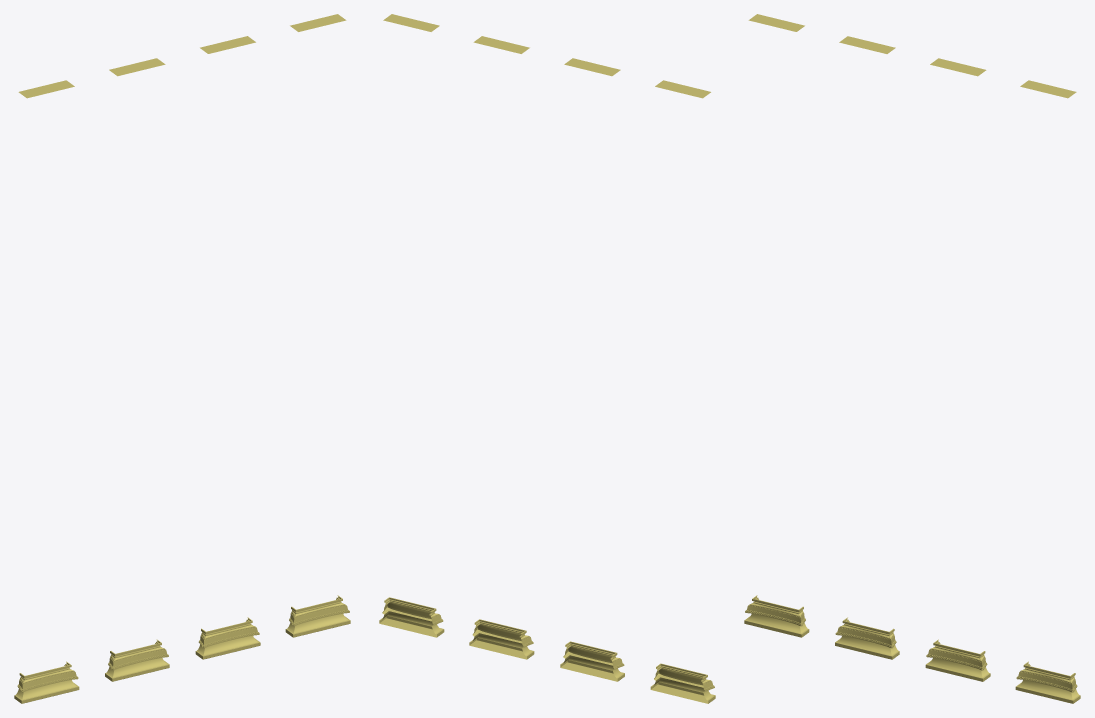
File: pasted__gold_226.fbx
The picture shows the model from 3 angles, left to right: view 1: azimuth 30°, elevation 25°; view 2: azimuth 150°, elevation 25°; view 3: azimuth 330°, elevation 25°; orthographic projection.
Parts seen in each view (by area): view 1: pasted__gold_226; view 2: pasted__gold_226; view 3: pasted__gold_226.
Boxes of the visible parts, x1,y1,x2,y2 form: pasted__gold_226: (14,14,350,703); pasted__gold_226: (379,14,715,703); pasted__gold_226: (744,14,1080,703).
Bounding box in the file's own units: 355 × 16.42 × 624.
